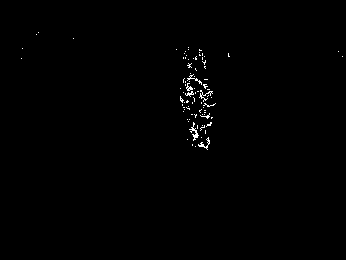person: (194, 75, 216, 152), (179, 68, 199, 142)
